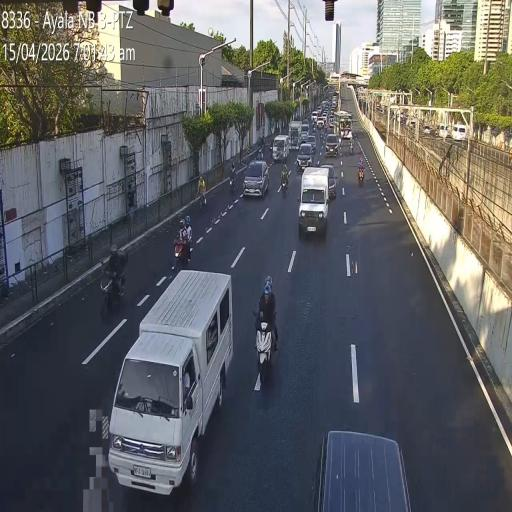Car: (110, 271, 234, 494), (310, 420, 412, 512), (298, 167, 330, 236), (243, 162, 269, 199), (296, 143, 314, 172), (323, 164, 337, 200), (272, 133, 289, 162), (324, 133, 340, 157), (306, 131, 316, 153), (316, 116, 325, 129), (327, 117, 334, 129)
Motor: (256, 272, 276, 386), (98, 241, 128, 316), (173, 220, 193, 272), (280, 165, 290, 198), (230, 162, 238, 192), (358, 159, 366, 185)
Not Accident: (108, 224, 234, 496), (296, 160, 338, 240), (298, 133, 317, 166)
